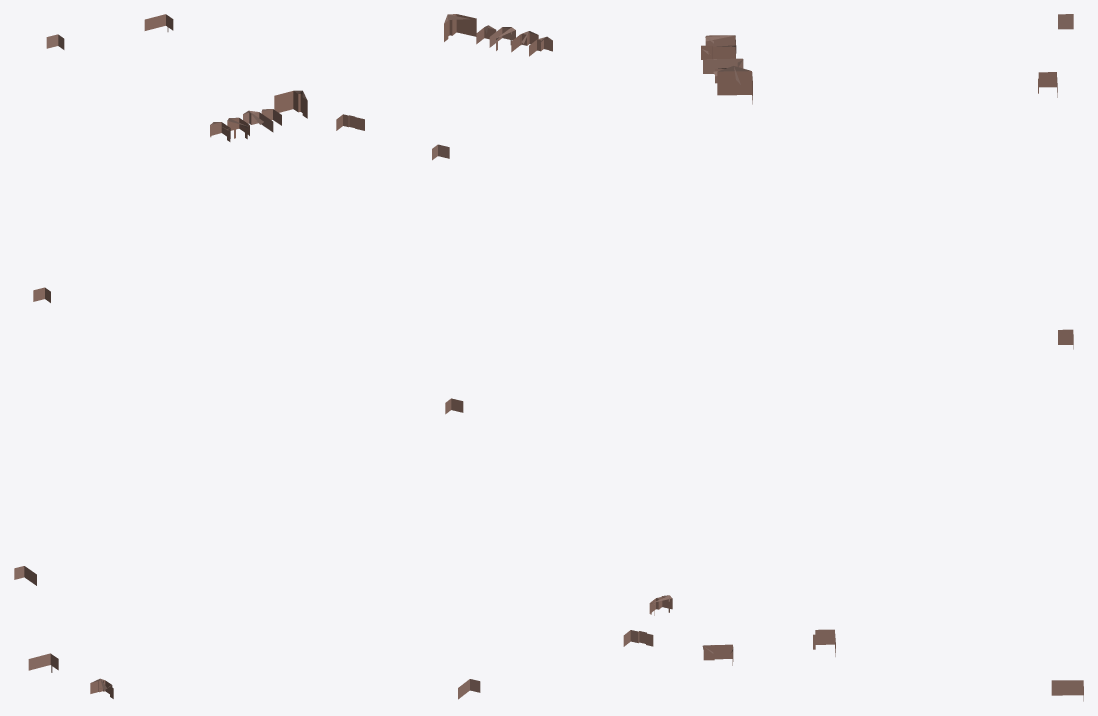
File: c_1638_17826_buildings_residential.glb
3 renders of one model, left to right at view 1: azimuth 30°, elevation 25°; view 2: azimuth 150°, elevation 25°; view 3: azimuth 270°, elevation 25°, orthographic. The views are drawn at different scales.
Visible parts, largest first — view 1: geometry_0; view 2: geometry_0; view 3: geometry_0.
Boxes of the visible parts, x1,y1,x2,y2 form: geometry_0: [14, 14, 307, 698]; geometry_0: [336, 14, 672, 699]; geometry_0: [701, 14, 1083, 701].
Size of the model in its own units: 202 by 449 by 218.
